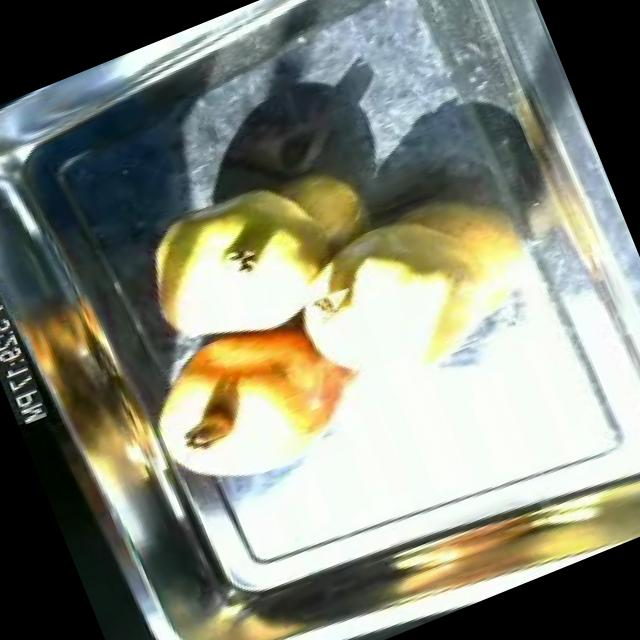fruit: (266, 180, 535, 434), (110, 148, 362, 376), (124, 288, 374, 515)
